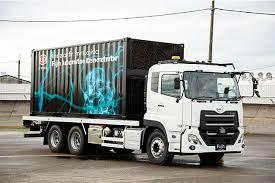Truck: (30, 37, 258, 165)
